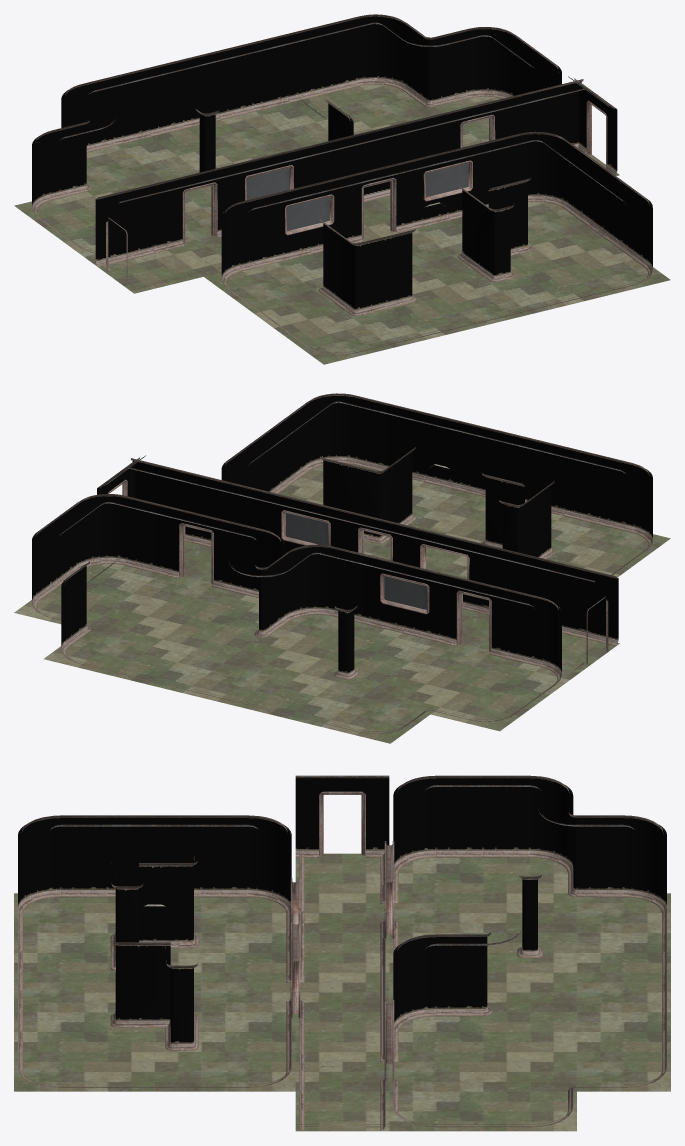
File: bunker.room.21.ae.glb
The picture shows the model from 3 angles, top to bottom: view 1: azimuth 30°, elevation 25°; view 2: azimuth 150°, elevation 25°; view 3: azimuth 270°, elevation 25°; orthographic projection. The views are drawn at different scales.
Parts seen in each view (by area): view 1: bunker.room.21.ae_LOD0; view 2: bunker.room.21.ae_LOD0; view 3: bunker.room.21.ae_LOD0.
Part boxes in pixels (x1,y1,x2,y2): bunker.room.21.ae_LOD0: (14,14,670,364); bunker.room.21.ae_LOD0: (14,393,670,743); bunker.room.21.ae_LOD0: (14,775,670,1131).
Size of the model in its own units: 21 by 3.02 by 21.
5 materials, 5 textured.
